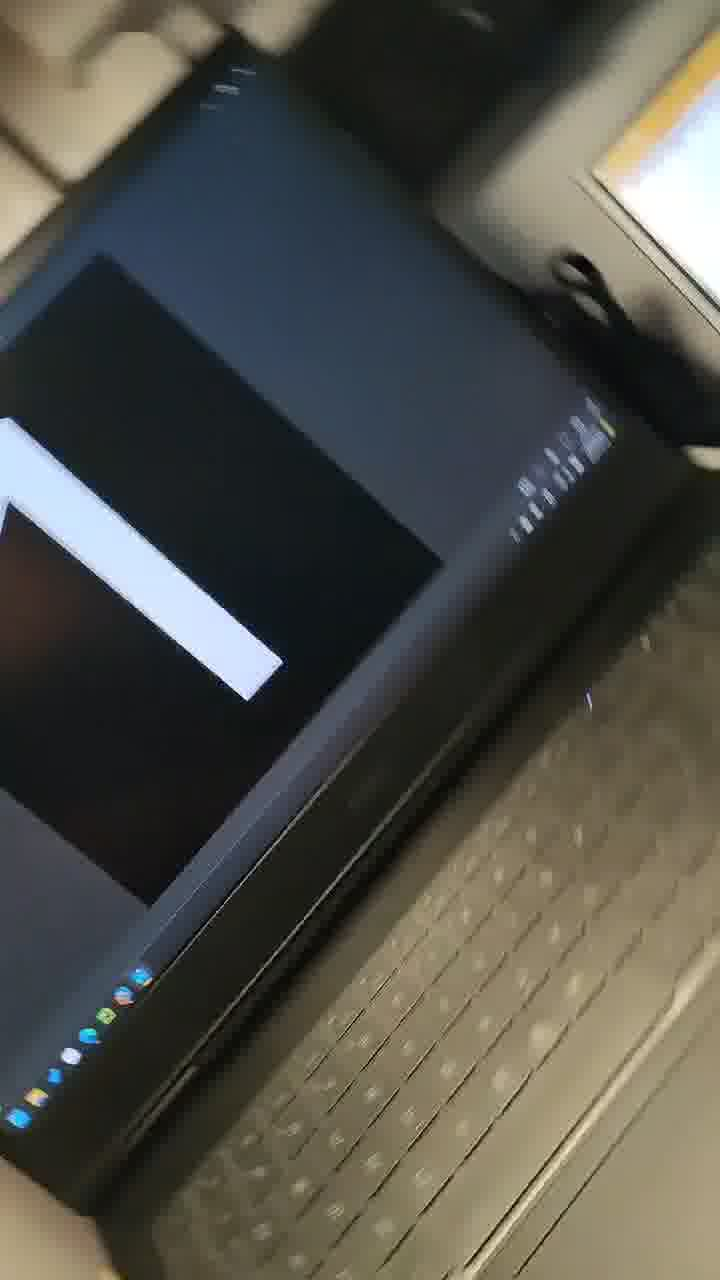one: (1, 333, 339, 757)
